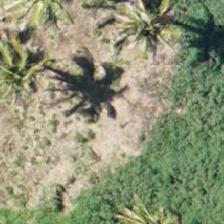coconut_tree: (128, 0, 218, 64), (0, 27, 62, 117)
